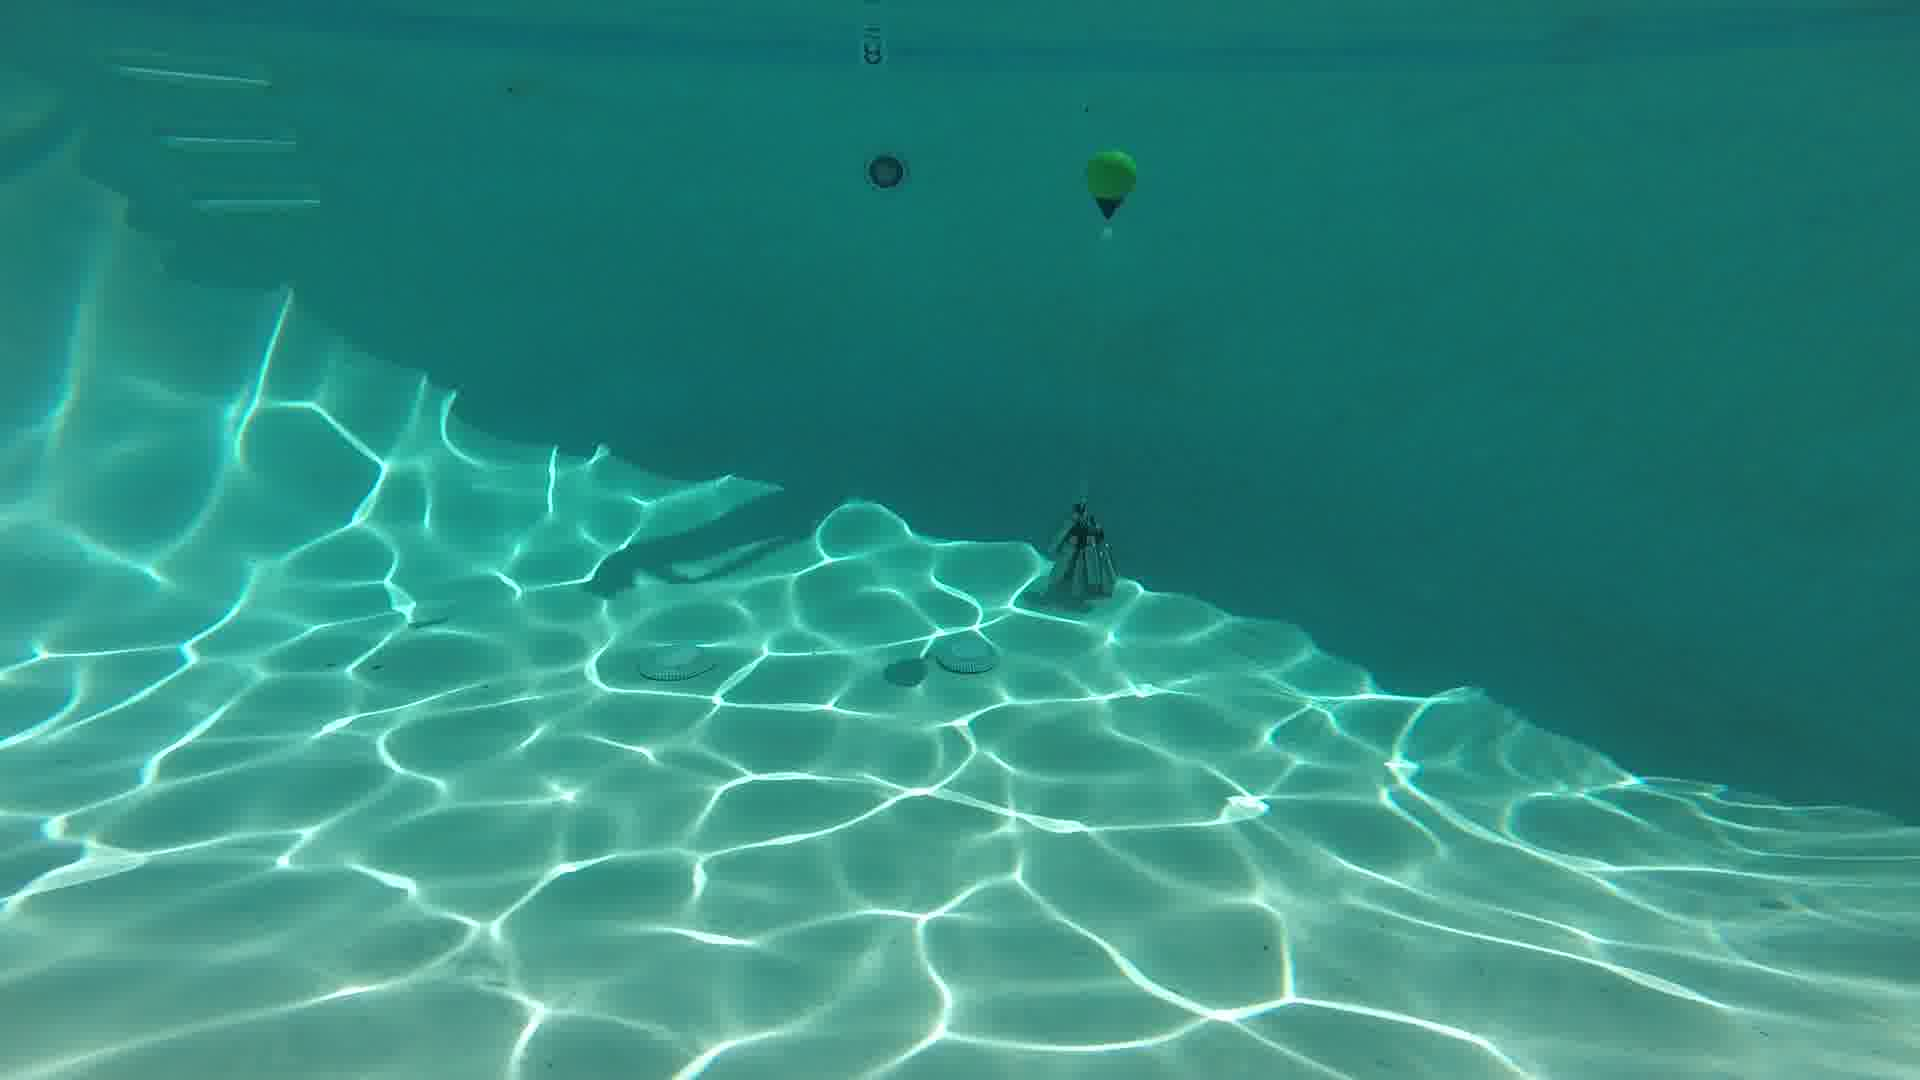yellow_buoy: (1088, 150, 1133, 220)
